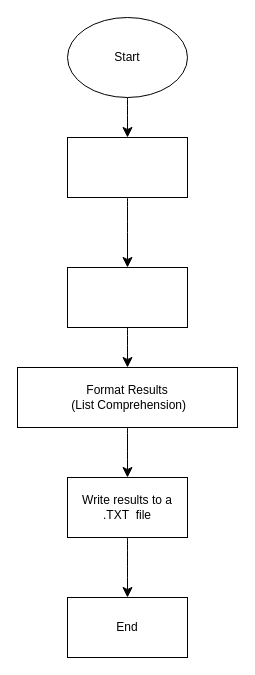
This 255x675 diagram has some shape labels left out. Each missing label, with the centre of its shape:
Get Scan Results: the point at 127,297
Scan Ports: the point at 127,167
